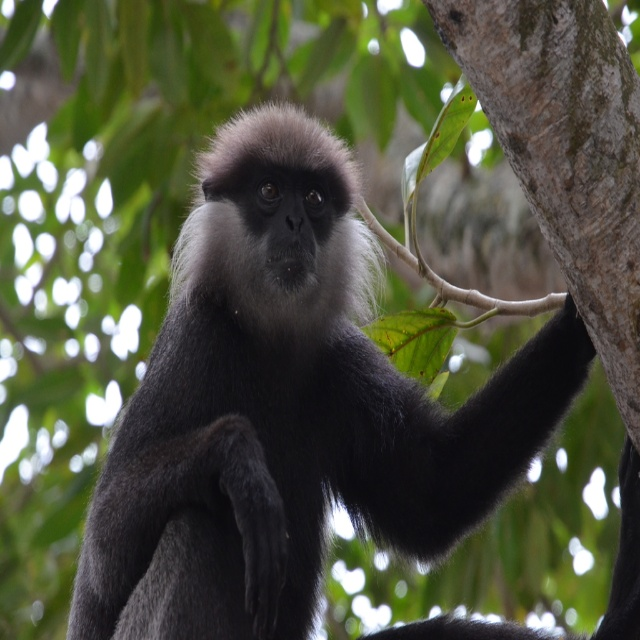Monkey: (68, 99, 640, 639)
